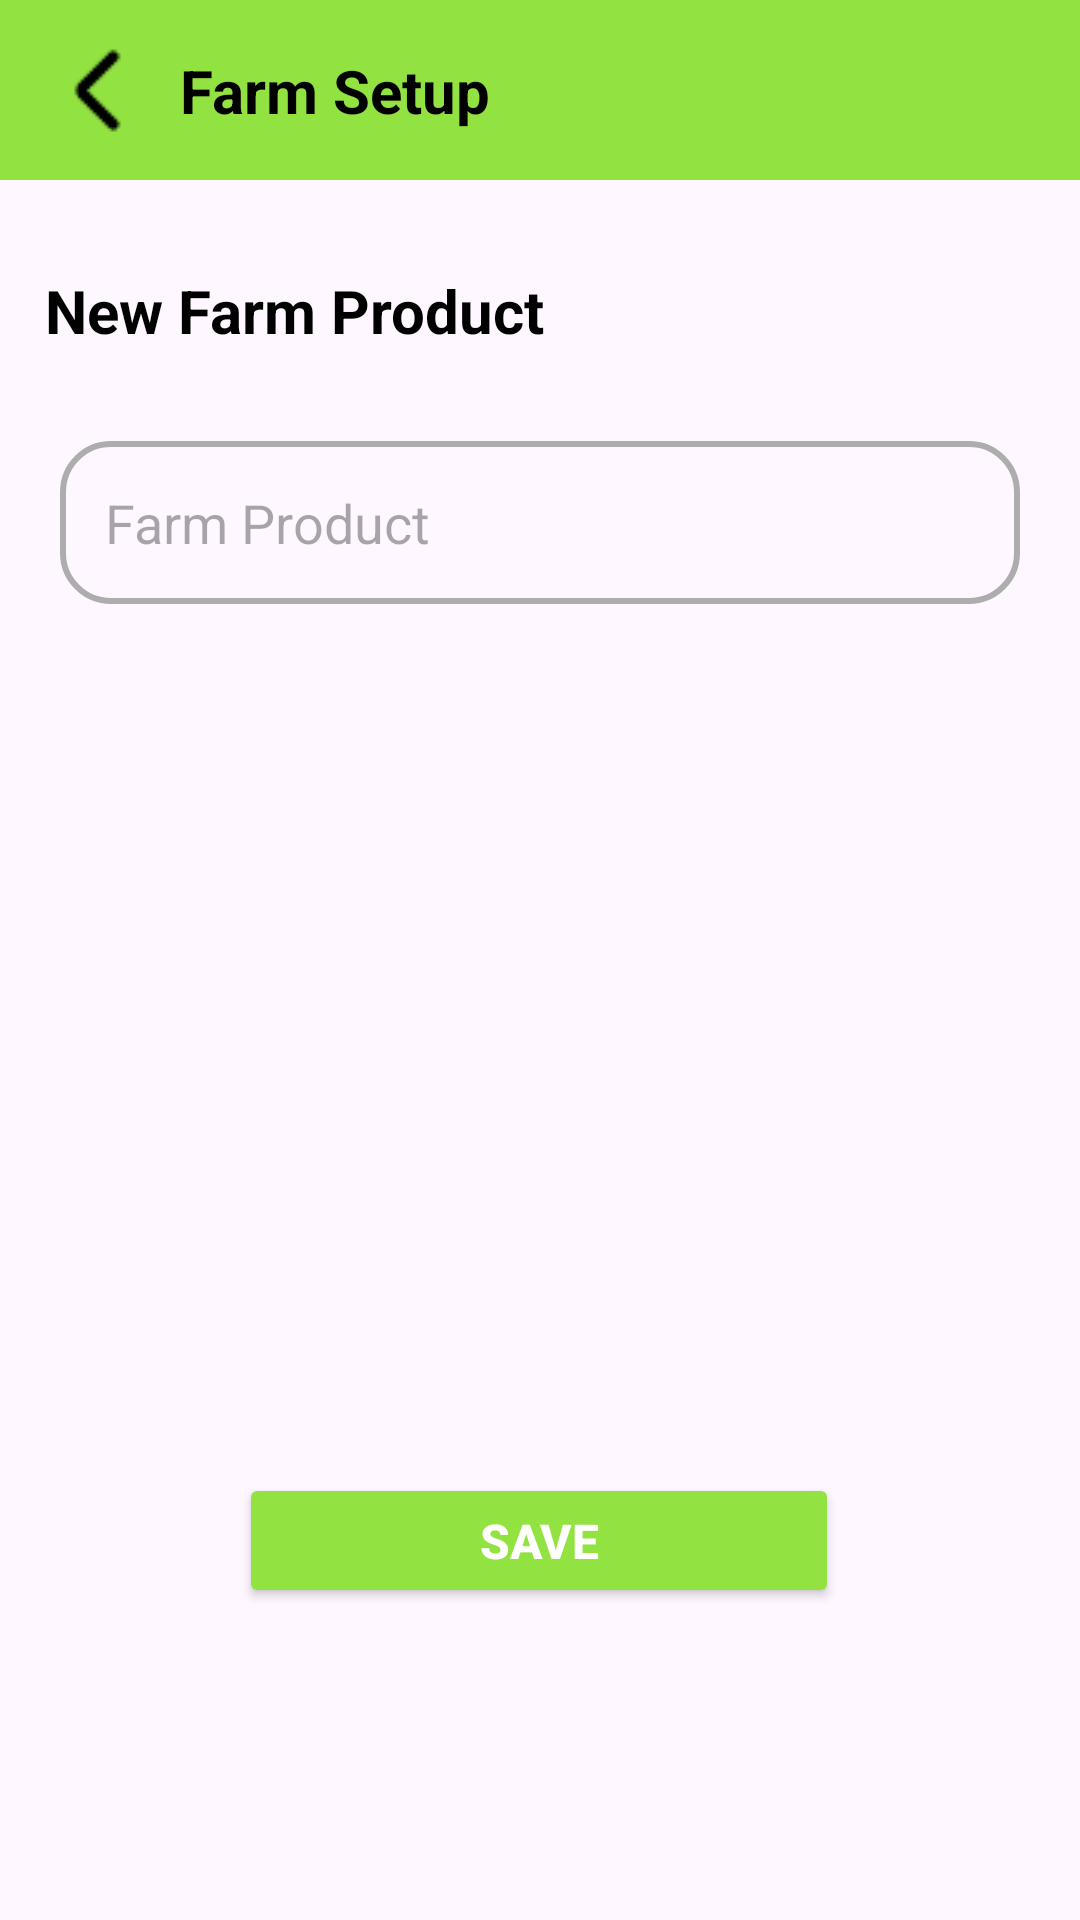

Icons on this 1080w x 1920h Android screen, each with the point to tap as [x,y]:
back arrow: [97,90]
